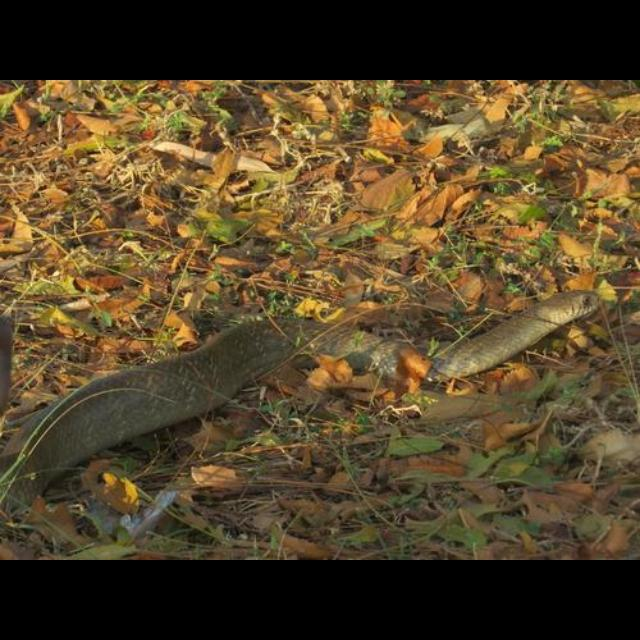snake: (8, 284, 626, 500)
